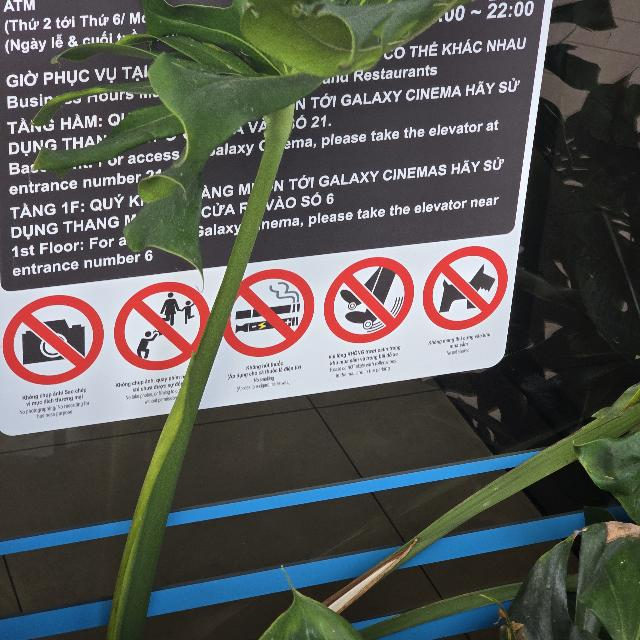cam hut thuoc: (224, 269, 314, 357)
